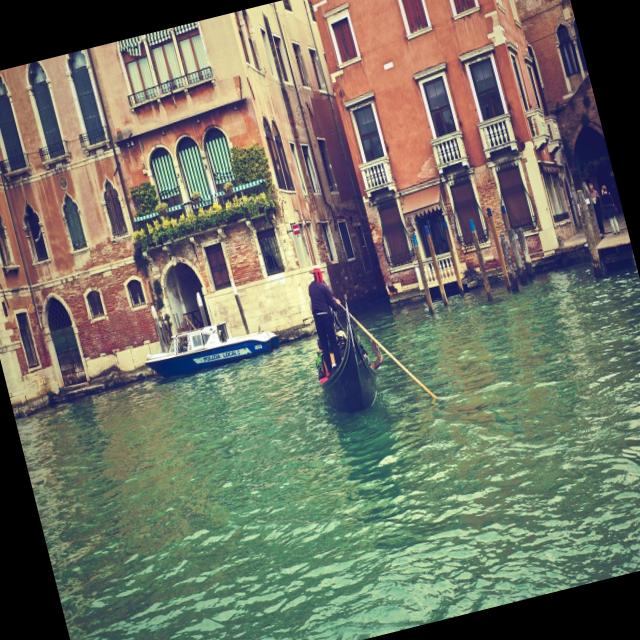boat: (273, 251, 400, 432), (132, 284, 292, 402)
